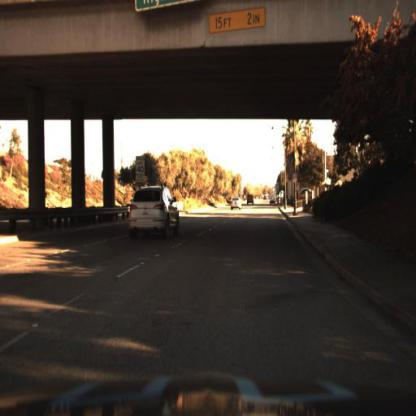car: (115, 177, 182, 248), (227, 193, 245, 214), (245, 192, 259, 208)
